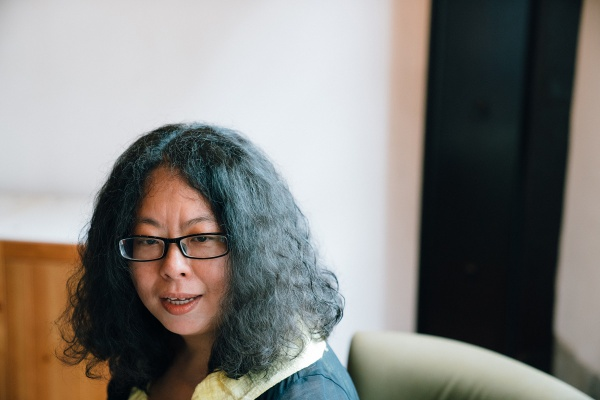female: (86, 127, 315, 358)
